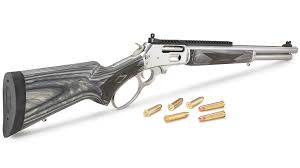gun: (4, 33, 300, 131)
